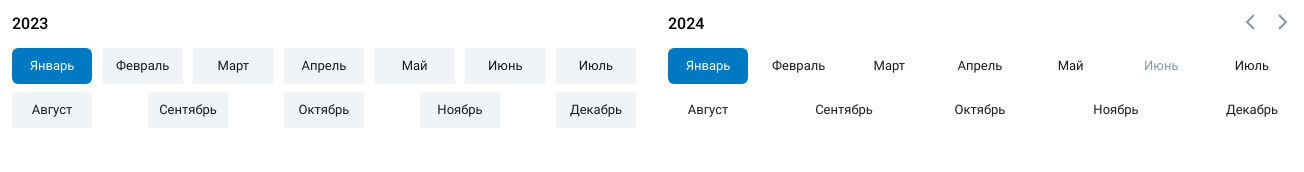
Test case: Компонент CalendarYearRange › При клике на неактивную ячейку второго года появляется попап
The image size is (1304, 172).
Click the 2nd element showing "Июнь".
click(1161, 66)  # box [1144,58,1178,73]
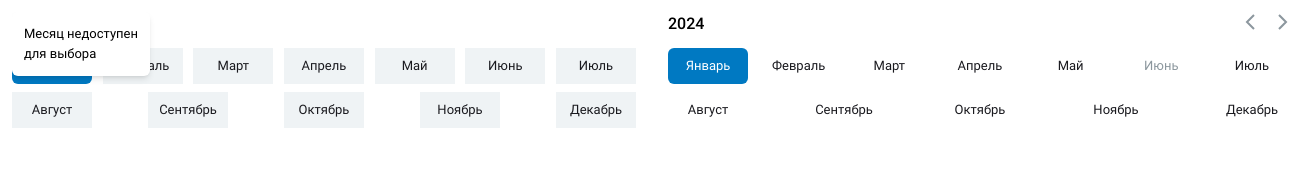
expect the text "Месяц недоступен для выбора" is shown: met, box [24,26,138,61]
